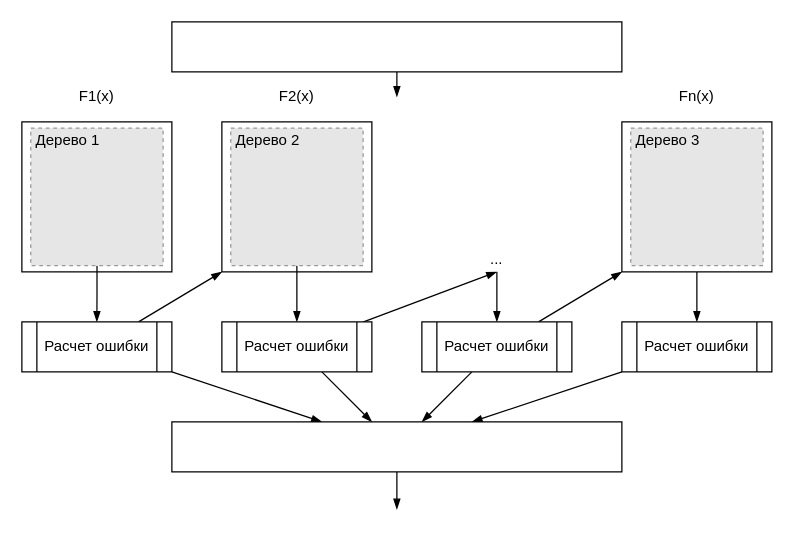
Some shapes in this 794 by 541 pixel diagram are drawn without their labels. Grey dashed boxes stand in for pictures. The box of each missing label's shape, as (x1, y1, x2, y2) in pixels:
Взвешенное голосование: (171, 421, 622, 472)
Данные: (171, 21, 622, 72)
